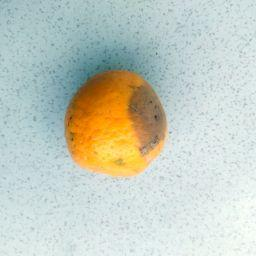Unripe: (65, 67, 168, 175)
